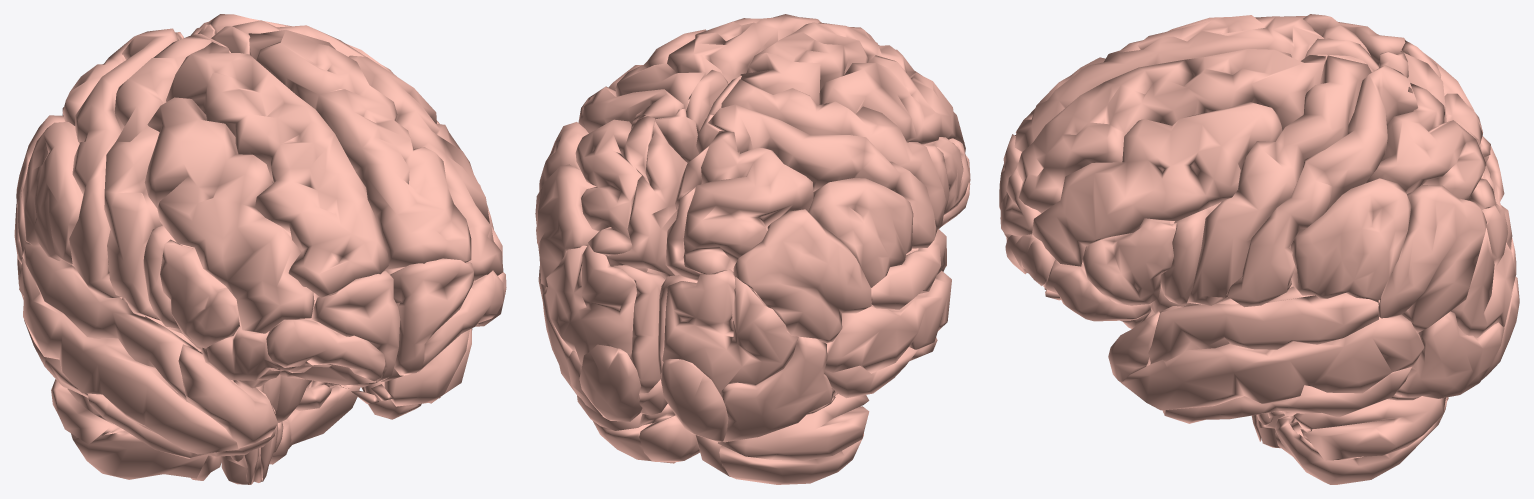
The model's file is brain.glb.
3 views of the same model, side by side, from view 1: azimuth 30°, elevation 25°; view 2: azimuth 150°, elevation 25°; view 3: azimuth 270°, elevation 25° (orthographic). The views are drawn at different scales.
Parts seen in each view (by area): view 1: Allen_superior_frontal_gyrus_L, Allen_middle_frontal_gyrus_L, Allen_superior_frontal_gyrus_R, Allen_middle_temporal_gyrus_L, Allen_precentral_gyrus_L, Allen_postcentral_gyrus_L, Allen_superior_temporal_gyrus_L, Allen_middle_frontal_gyrus_R, Allen_supramarginal_gyrus_L, Allen_lateral_hemisphere_of_cerebellum_L, Allen_rostral_gyrus_R, Allen_inferior_frontal_gyrus_triangular_part_L (+18 smaller); view 2: Allen_angular_gyrus_L, Allen_supraparietal_lobule_L, Allen_superior_occipital_gyrus_L, Allen_postcentral_gyrus_L, Allen_lateral_hemisphere_of_cerebellum_L, Allen_superior_occipital_gyrus_R, Allen_supraparietal_lobule_R, Allen_precentral_gyrus_L, Allen_supramarginal_gyrus_L, Allen_superior_frontal_gyrus_L, Allen_middle_frontal_gyrus_L, Allen_middle_temporal_gyrus_L (+25 smaller); view 3: Allen_middle_frontal_gyrus_R, Allen_superior_frontal_gyrus_R, Allen_middle_temporal_gyrus_R, Allen_precentral_gyrus_R, Allen_postcentral_gyrus_R, Allen_supramarginal_gyrus_R, Allen_angular_gyrus_R, Allen_superior_temporal_gyrus_R, Allen_lateral_hemisphere_of_cerebellum_R, Allen_superior_frontal_gyrus_L, Allen_supraparietal_lobule_R, Allen_inferior_frontal_gyrus_triangular_part_R (+16 smaller).
Boxes of the visible parts, x1=… form: Allen_superior_frontal_gyrus_L: x1=166, y1=42, x2=388, y2=303; Allen_middle_frontal_gyrus_L: x1=144, y1=97, x2=314, y2=333; Allen_superior_frontal_gyrus_R: x1=248, y1=30, x2=471, y2=269; Allen_middle_temporal_gyrus_L: x1=19, y1=258, x2=239, y2=454; Allen_precentral_gyrus_L: x1=104, y1=36, x2=211, y2=320; Allen_postcentral_gyrus_L: x1=69, y1=28, x2=178, y2=297; Allen_superior_temporal_gyrus_L: x1=22, y1=244, x2=198, y2=403; Allen_middle_frontal_gyrus_R: x1=349, y1=55, x2=503, y2=280; Allen_supramarginal_gyrus_L: x1=21, y1=122, x2=83, y2=264; Allen_lateral_hemisphere_of_cerebellum_L: x1=51, y1=379, x2=207, y2=479; Allen_rostral_gyrus_R: x1=390, y1=258, x2=473, y2=375; Allen_inferior_frontal_gyrus_triangular_part_L: x1=160, y1=239, x2=239, y2=348; Allen_angular_gyrus_L: x1=733, y1=209, x2=871, y2=343; Allen_supraparietal_lobule_L: x1=683, y1=131, x2=813, y2=274; Allen_superior_occipital_gyrus_L: x1=662, y1=269, x2=798, y2=393; Allen_postcentral_gyrus_L: x1=708, y1=104, x2=936, y2=248; Allen_lateral_hemisphere_of_cerebellum_L: x1=718, y1=394, x2=869, y2=484; Allen_superior_occipital_gyrus_R: x1=546, y1=244, x2=636, y2=365; Allen_supraparietal_lobule_R: x1=575, y1=114, x2=654, y2=255; Allen_precentral_gyrus_L: x1=721, y1=79, x2=945, y2=230; Allen_supramarginal_gyrus_L: x1=808, y1=178, x2=913, y2=287; Allen_superior_frontal_gyrus_L: x1=740, y1=22, x2=921, y2=105; Allen_middle_frontal_gyrus_L: x1=819, y1=55, x2=965, y2=152; Allen_middle_temporal_gyrus_L: x1=825, y1=270, x2=951, y2=373; Allen_middle_frontal_gyrus_R: x1=1032, y1=102, x2=1282, y2=266; Allen_superior_frontal_gyrus_R: x1=1016, y1=49, x2=1325, y2=212; Allen_middle_temporal_gyrus_R: x1=1121, y1=314, x2=1424, y2=410; Allen_precentral_gyrus_R: x1=1187, y1=55, x2=1371, y2=305; Allen_postcentral_gyrus_R: x1=1226, y1=65, x2=1417, y2=307; Allen_supramarginal_gyrus_R: x1=1290, y1=178, x2=1411, y2=299; Allen_angular_gyrus_R: x1=1378, y1=185, x2=1486, y2=332; Allen_superior_temporal_gyrus_R: x1=1146, y1=293, x2=1378, y2=366; Allen_lateral_hemisphere_of_cerebellum_R: x1=1267, y1=396, x2=1447, y2=484; Allen_superior_frontal_gyrus_L: x1=1014, y1=15, x2=1324, y2=151; Allen_supraparietal_lobule_R: x1=1365, y1=83, x2=1496, y2=209; Allen_inferior_frontal_gyrus_triangular_part_R: x1=1082, y1=218, x2=1176, y2=305.
Size of the model in its own units: 0.1355 by 0.146 by 0.1668.
